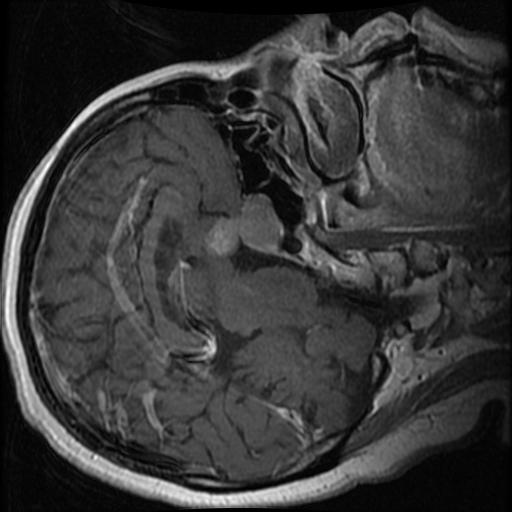pituitary tumour: (206, 194, 284, 256)
